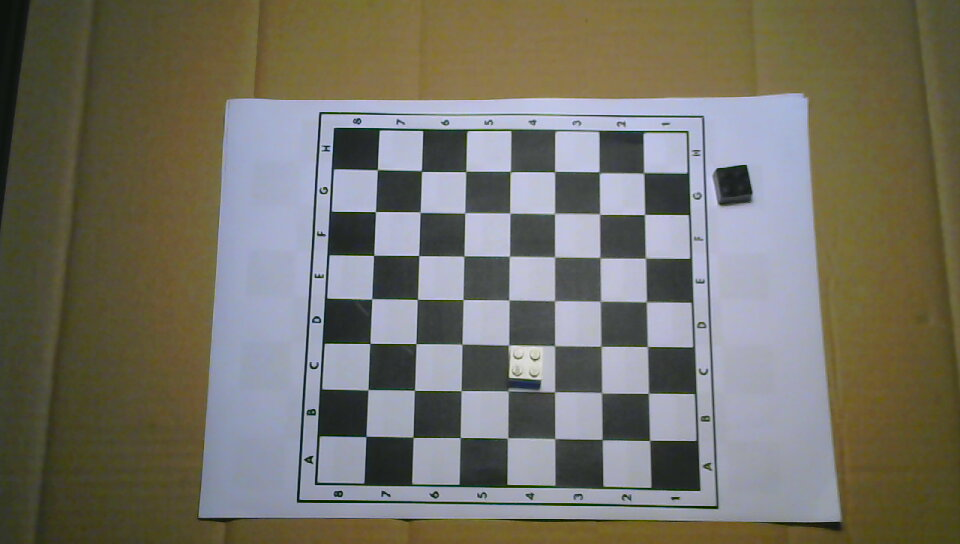bp: (710, 164, 756, 207)
wp: (506, 342, 545, 387)
